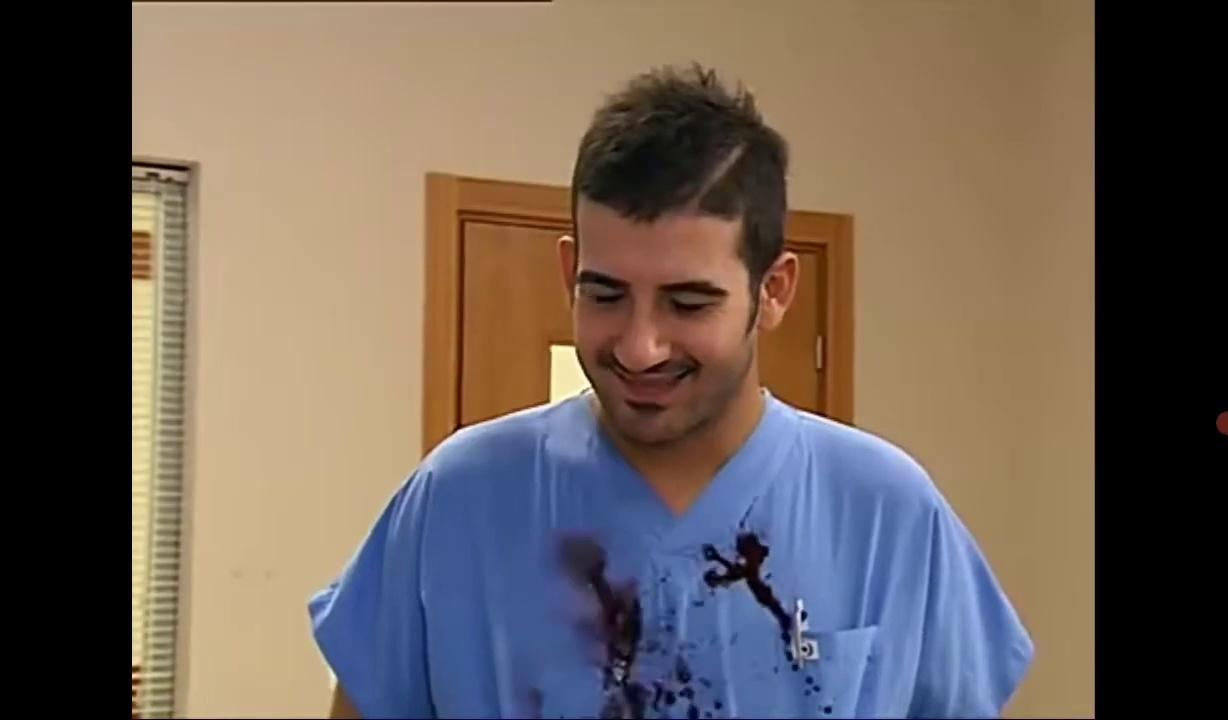Fire: (540, 527, 875, 719)
